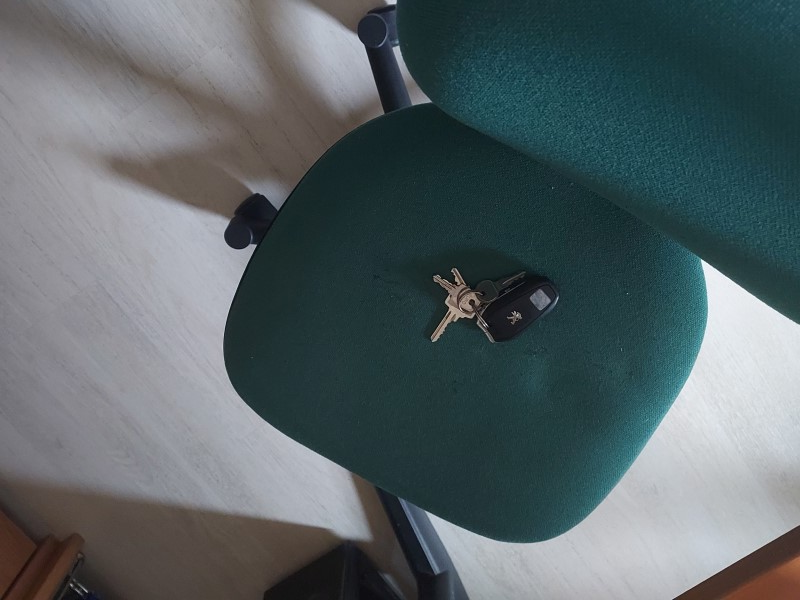carkey: (472, 271, 563, 343)
key: (424, 265, 478, 341), (476, 265, 528, 300)
